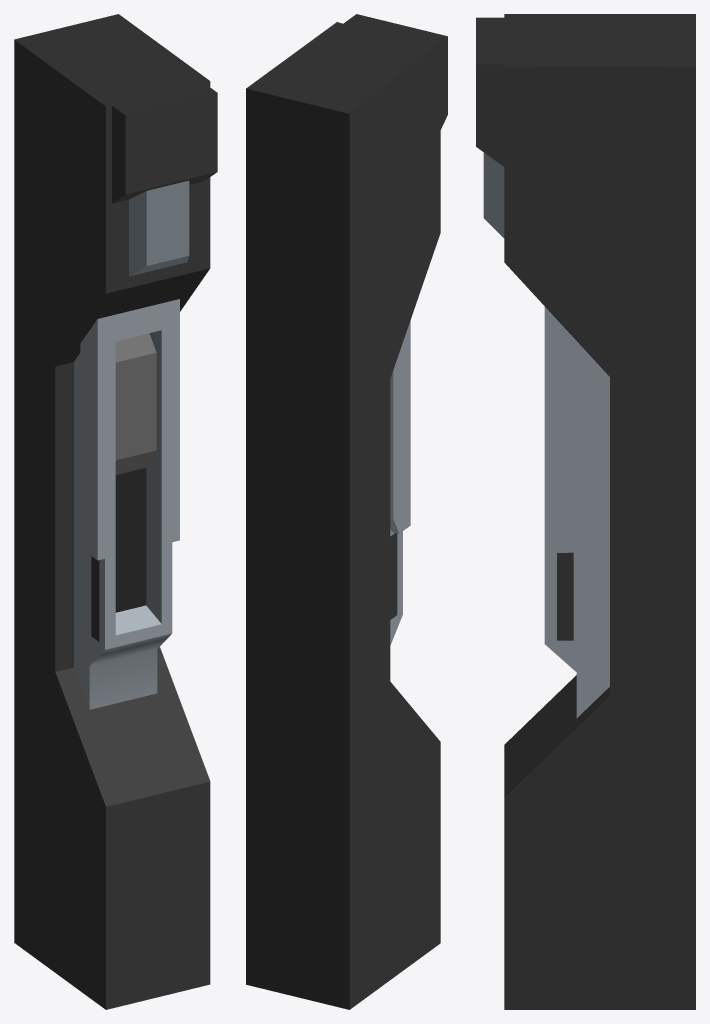
The model's file is SM_Bld_Wall_Pillar_01.fbx.
3 renders of one model, left to right at view 1: azimuth 30°, elevation 25°; view 2: azimuth 150°, elevation 25°; view 3: azimuth 270°, elevation 25°, orthographic. The views are drawn at different scales.
Visible parts, largest first — view 1: SM_Bld_Wall_Pillar_01; view 2: SM_Bld_Wall_Pillar_01; view 3: SM_Bld_Wall_Pillar_01.
Part boxes in pixels (x1=…): SM_Bld_Wall_Pillar_01: x1=14, y1=14, x2=217, y2=1009; SM_Bld_Wall_Pillar_01: x1=246, y1=14, x2=447, y2=1009; SM_Bld_Wall_Pillar_01: x1=476, y1=14, x2=695, y2=1009.
Bounding box in the file's own units: 61.61 × 509 × 108.
1 material, 1 textured.
